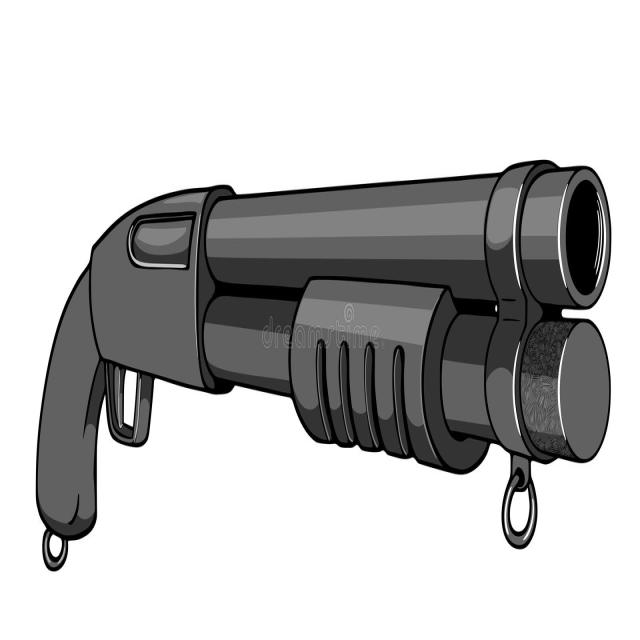ShotGun: (34, 159, 616, 574)
